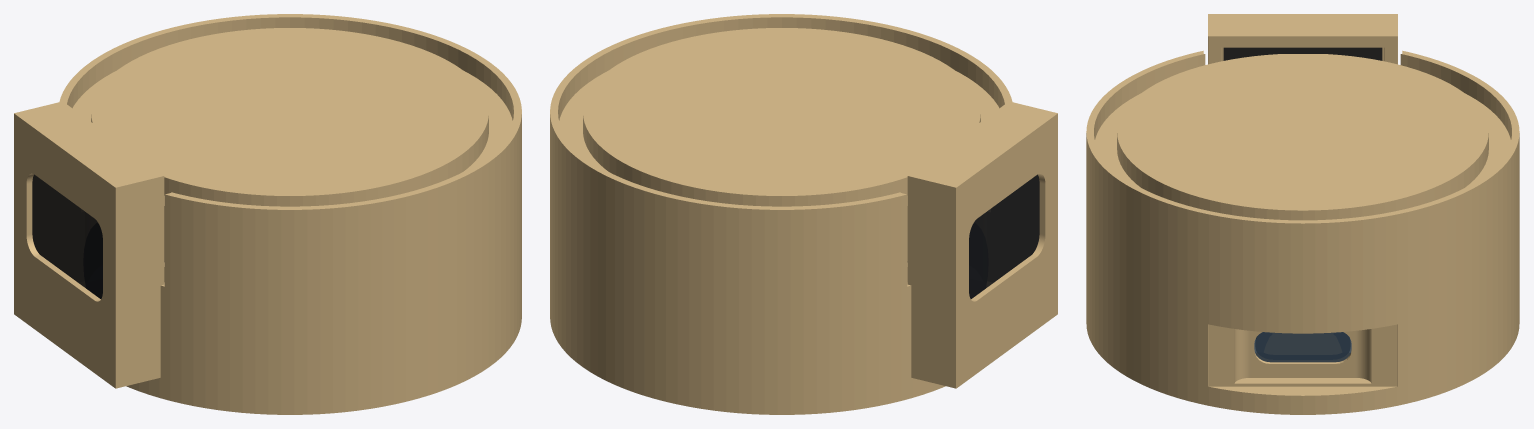
File: dimsum_clicker_single_layer23.glb
The picture shows the model from 3 angles, left to right: view 1: azimuth 30°, elevation 25°; view 2: azimuth 150°, elevation 25°; view 3: azimuth 270°, elevation 25°; orthographic projection. The views are drawn at different scales.
Parts seen in each view (by area): view 1: floor3, floor2, component; view 2: floor3, floor2, component; view 3: floor3, floor2, component (×2).
Boxes of the visible parts, x1,y1,x2,y2 form: floor3: (59,14,521,302); floor2: (14,101,521,414); component: (32,174,102,298); floor3: (550,14,1012,302); floor2: (550,101,1057,414); component: (969,174,1039,298); floor3: (1086,50,1519,309); floor2: (1086,14,1519,414); component (×2): (1223,47,1382,362).
Bounding box in the file's own units: 43.5 × 21.6 × 41.
